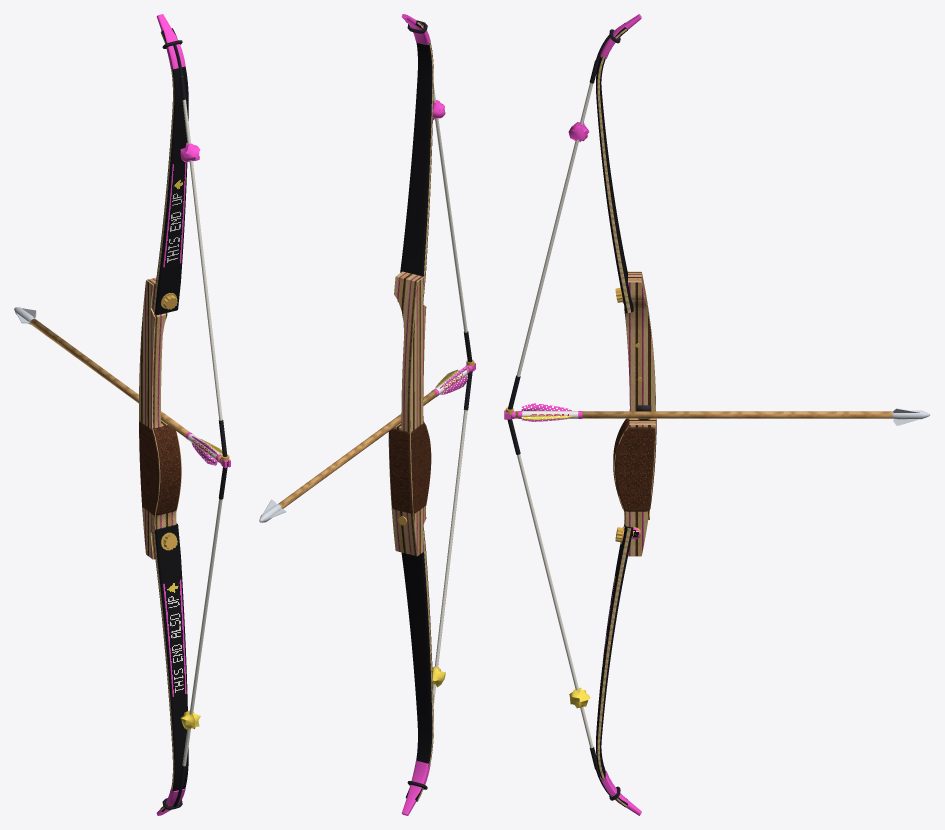
Rendered from w_bow.glb.
3 views of the same model, side by side, from view 1: azimuth 30°, elevation 25°; view 2: azimuth 150°, elevation 25°; view 3: azimuth 270°, elevation 25° (orthographic).
Visible parts, largest first — view 1: bow_body_wzA, bw_limb_bot_wzB, bw_limb_top_wzB, bow_arrow_wzA, bw_string_top_wzN, bw_string_bot_wzN, bow_body_wzB; view 2: bow_body_wzA, bw_limb_top_wzB, bw_limb_bot_wzB, bow_arrow_wzA, bw_string_bot_wzN, bw_string_top_wzN; view 3: bow_body_wzA, bow_arrow_wzA, bw_limb_top_wzB, bw_limb_bot_wzB, bw_string_top_wzN, bw_string_bot_wzN, bow_body_wzB.
Boxes of the visible parts, x1,y1,x2,y2 form: bow_body_wzA: (139,277,181,559); bw_limb_bot_wzB: (155,556,188,815); bw_limb_top_wzB: (155,14,188,287); bow_arrow_wzA: (30,319,230,468); bw_string_top_wzN: (179,75,229,462); bw_string_bot_wzN: (179,463,227,785); bow_body_wzB: (153,282,180,561); bow_body_wzA: (388,271,431,556); bw_limb_top_wzB: (400,14,433,275); bw_limb_bot_wzB: (401,548,433,815); bow_arrow_wzA: (278,363,475,508); bw_string_bot_wzN: (432,372,472,708); bw_string_top_wzN: (433,85,474,366); bow_body_wzA: (613,271,656,556); bow_arrow_wzA: (504,403,892,421); bw_limb_top_wzB: (595,14,641,283); bw_limb_bot_wzB: (596,549,641,815); bw_string_top_wzN: (505,60,598,414); bw_string_bot_wzN: (507,419,598,769); bow_body_wzB: (615,273,649,557).
Size of the model in its own units: 0.0278 by 0.8283 by 0.4.
21 materials, 10 textured.
